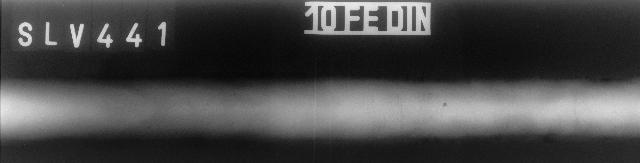FF: (495, 132, 563, 148)
IE: (516, 124, 536, 142), (486, 92, 500, 100)
PO: (442, 102, 448, 108)
TR: (369, 92, 427, 130), (570, 94, 590, 134), (440, 116, 478, 134)
